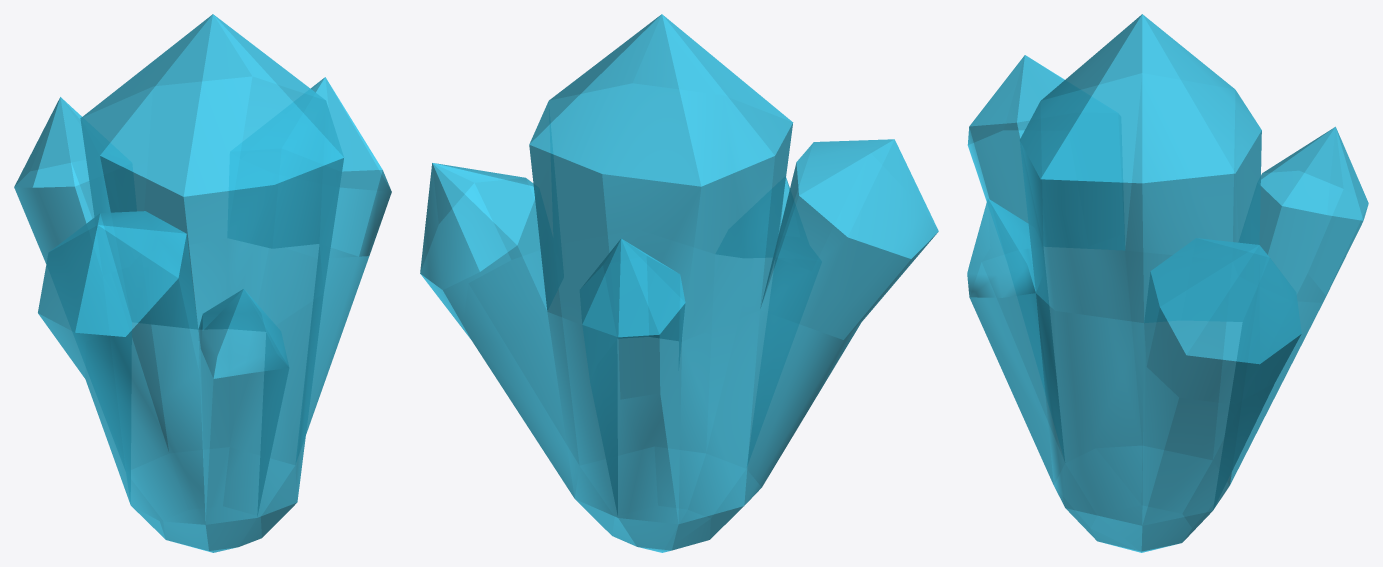
File: Gemstone.FBX
The picture shows the model from 3 angles, left to right: view 1: azimuth 30°, elevation 25°; view 2: azimuth 150°, elevation 25°; view 3: azimuth 270°, elevation 25°; orthographic projection.
Visible parts, largest first — view 1: Gemstone; view 2: Gemstone; view 3: Gemstone.
Part boxes in pixels (left/top/right/bottom): Gemstone: left=14, top=14, right=391, bottom=552; Gemstone: left=420, top=14, right=938, bottom=552; Gemstone: left=967, top=14, right=1368, bottom=552.
Bounding box in the file's own units: 20.95 × 26.12 × 17.64.
